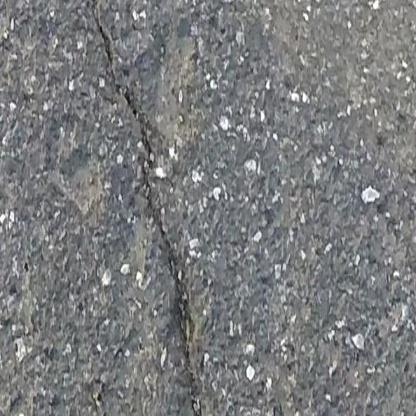Cracks: (83, 0, 183, 274), (172, 275, 207, 416)
